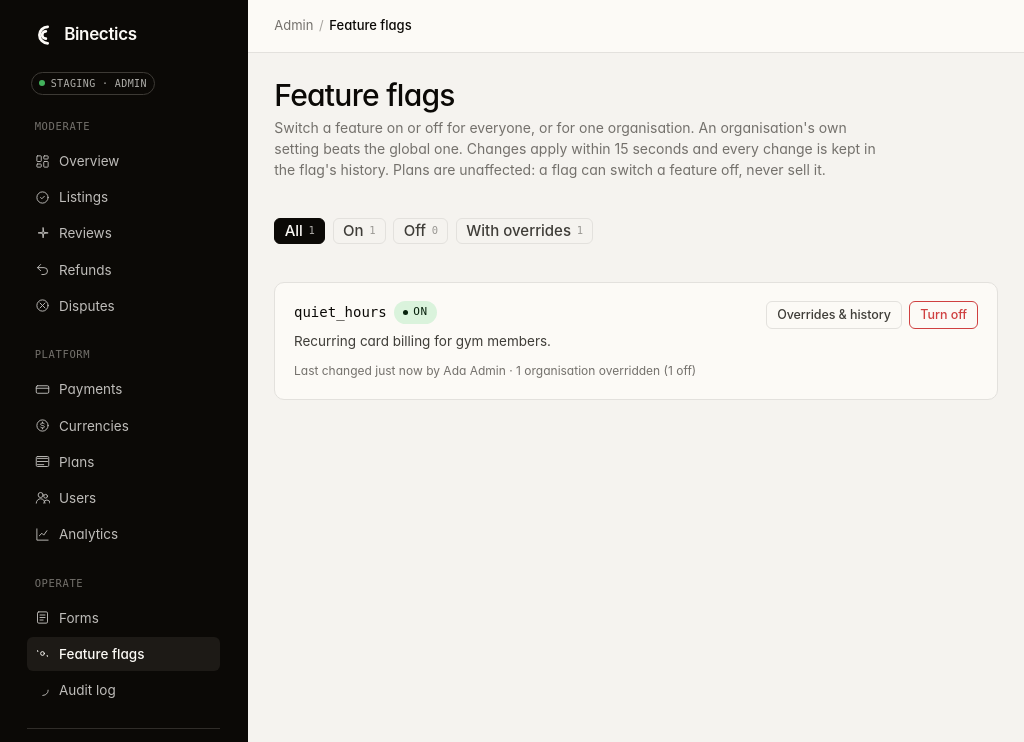
it: admin feature flags list › a plain flag only needs the confirm click; a 403 explains the permission
Click the button with aria-label "Turn quiet_hours off everywhere".
click(944, 315)  # box [909, 301, 978, 329]
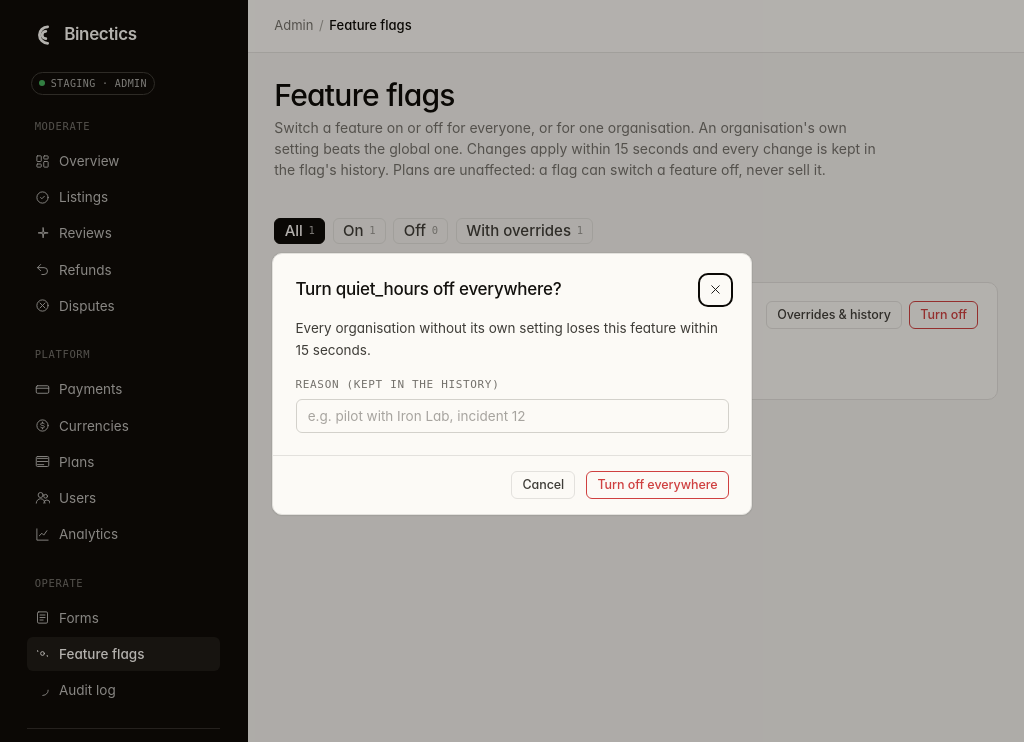
Expected: the dialog shows "Every organisation without its own setting loses this feature within 15 seconds.", [296, 320, 718, 358]
Click the button "Turn off everywhere".
click(657, 485)  # box [586, 471, 728, 499]
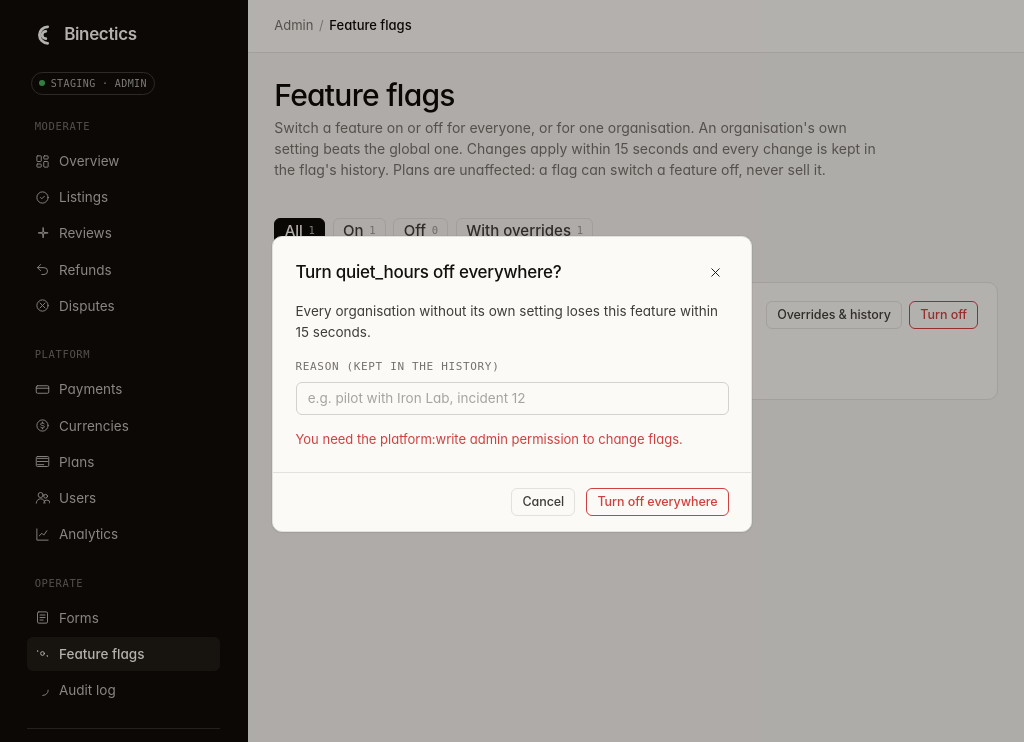
Expected: the message shows "platform:write", [296, 431, 683, 447]
